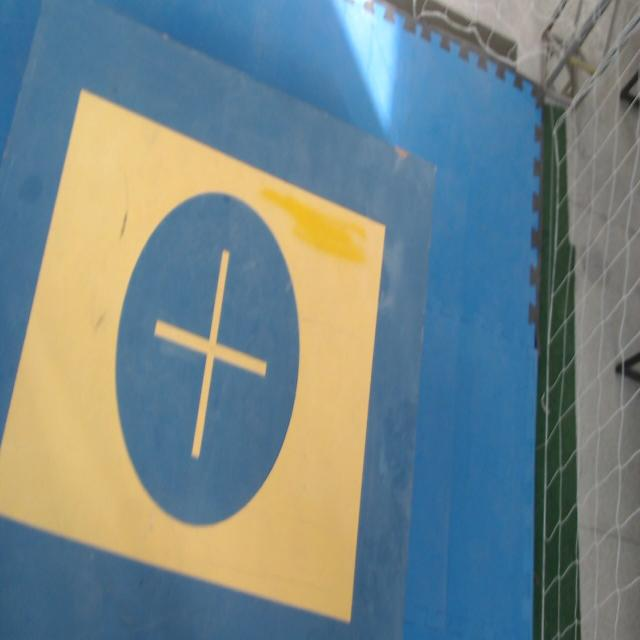base_inicio: (0, 91, 385, 622)
